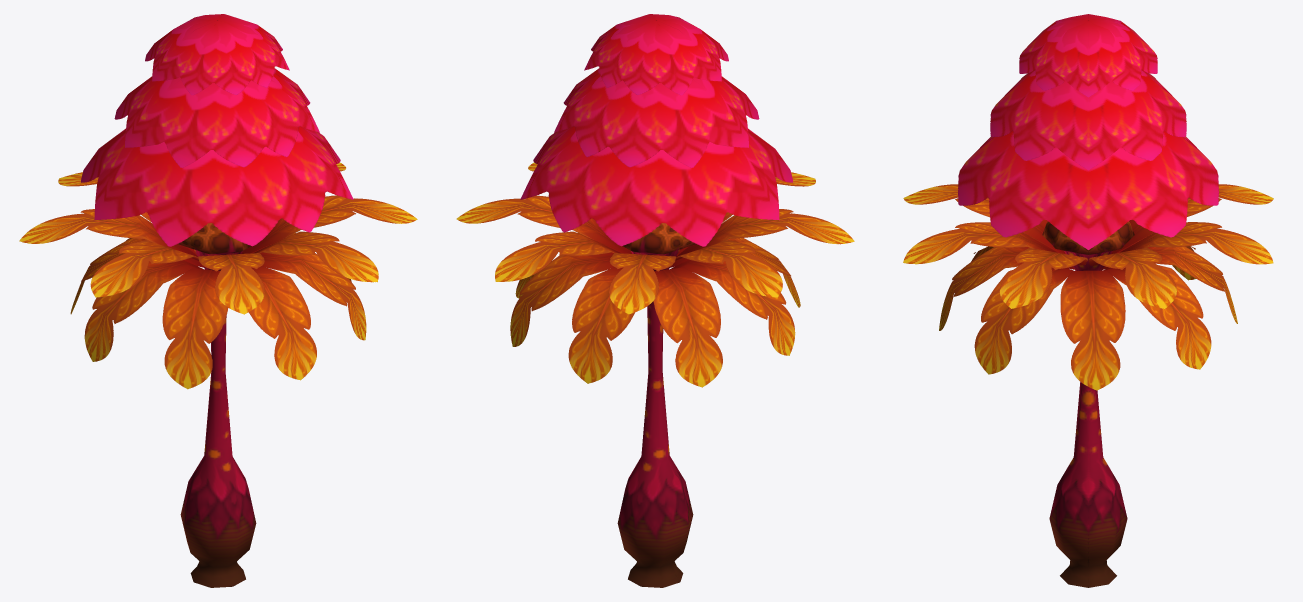
Rendered from Red_Tree_03c.FBX.
3 renders of one model, left to right at view 1: azimuth 30°, elevation 25°; view 2: azimuth 150°, elevation 25°; view 3: azimuth 270°, elevation 25°, orthographic.
Parts seen in each view (by area): view 1: Red_Tree_03c; view 2: Red_Tree_03c; view 3: Red_Tree_03c.
Part boxes in pixels (x1=…): Red_Tree_03c: x1=19, y1=14, x2=417, y2=587; Red_Tree_03c: x1=456, y1=14, x2=854, y2=587; Red_Tree_03c: x1=903, y1=14, x2=1273, y2=587.
Size of the model in its own units: 244 by 373 by 244.
